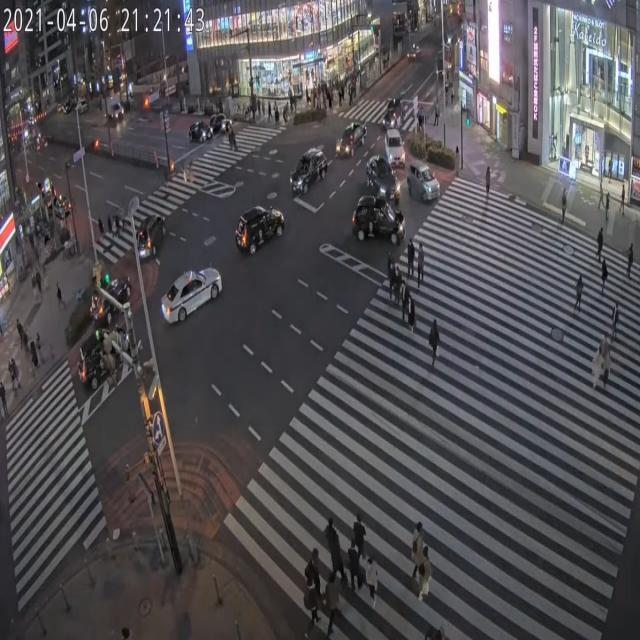humans: (325, 507, 346, 582), (413, 540, 435, 604), (323, 563, 343, 632), (607, 293, 623, 351), (363, 557, 378, 617), (307, 548, 321, 610), (411, 514, 423, 580), (427, 317, 441, 373), (348, 534, 359, 600), (305, 573, 316, 632), (556, 188, 571, 231), (484, 156, 494, 212), (404, 233, 416, 278), (354, 514, 364, 568), (405, 289, 416, 338), (594, 224, 605, 266), (395, 265, 403, 319), (574, 273, 582, 326), (418, 241, 426, 291), (386, 251, 393, 307), (402, 277, 409, 332), (598, 332, 606, 377), (600, 257, 609, 296), (593, 344, 600, 390), (626, 241, 634, 281), (389, 263, 395, 314)
